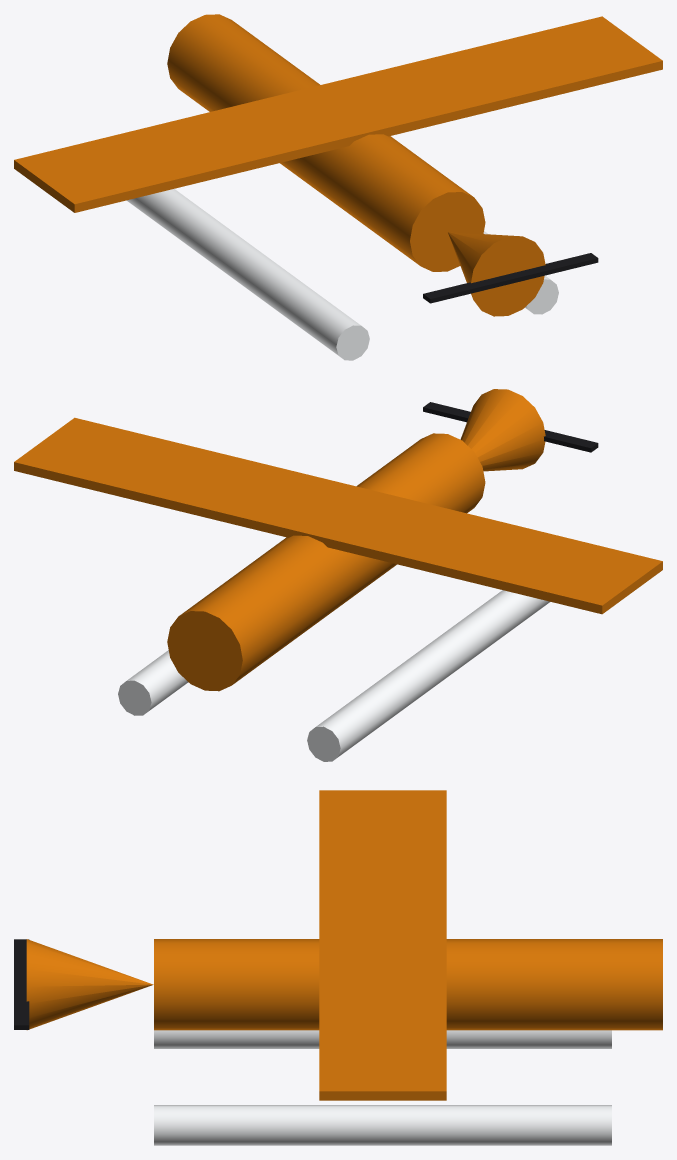
The model's file is seaplane.glb.
3 renders of one model, top to bottom at view 1: azimuth 30°, elevation 25°; view 2: azimuth 150°, elevation 25°; view 3: azimuth 270°, elevation 25°, orthographic. The views are drawn at different scales.
Bounding box in the file's own units: 1 × 0.2393 × 0.9107.
